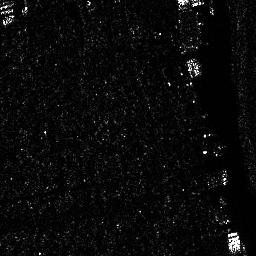ship: (221, 168, 228, 186)
